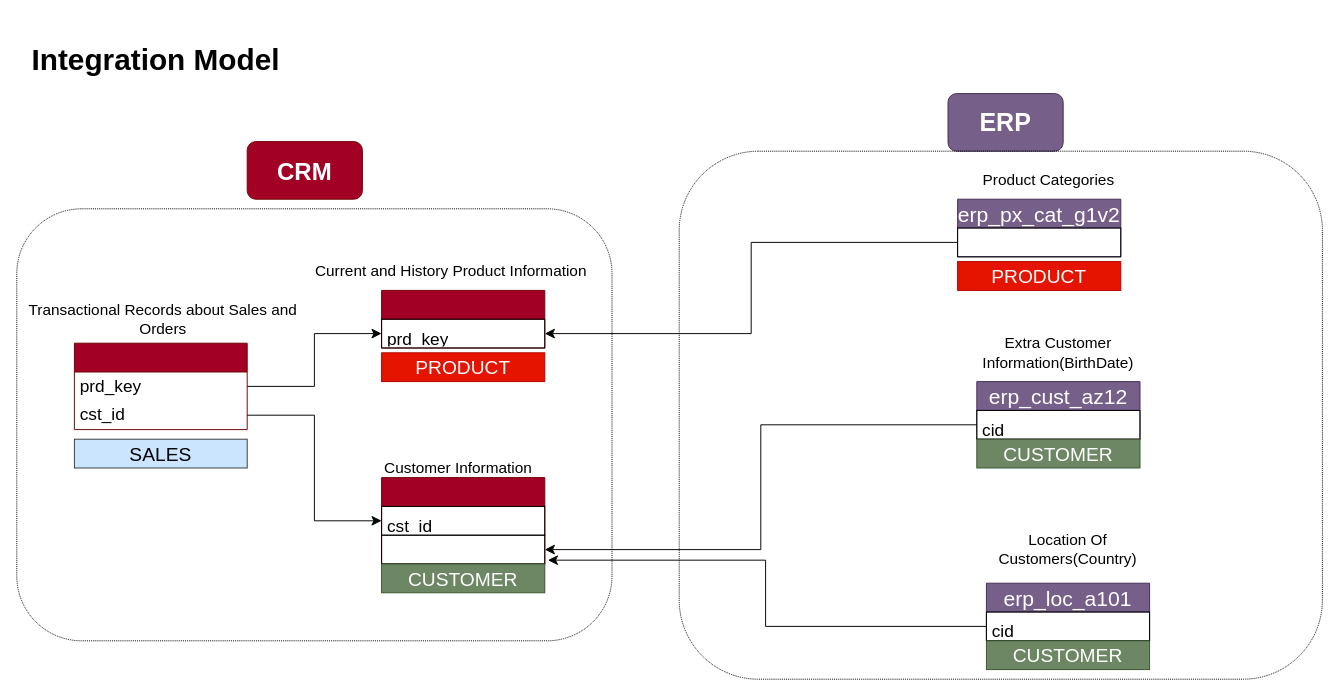
Some shapes in this 1339 by 696 pixel diagram are drawn without their labels. The shapes that lost their labels are listed below. From the top down, each one's box as (x1, y1, x2, y2) in pixels, then its label:
(957, 227, 1121, 257): id
(381, 289, 545, 348): crm_prd_info
(73, 342, 247, 430): crm_sales_details
(381, 477, 545, 564): crm_cust_info
(381, 534, 545, 564): cst_key
